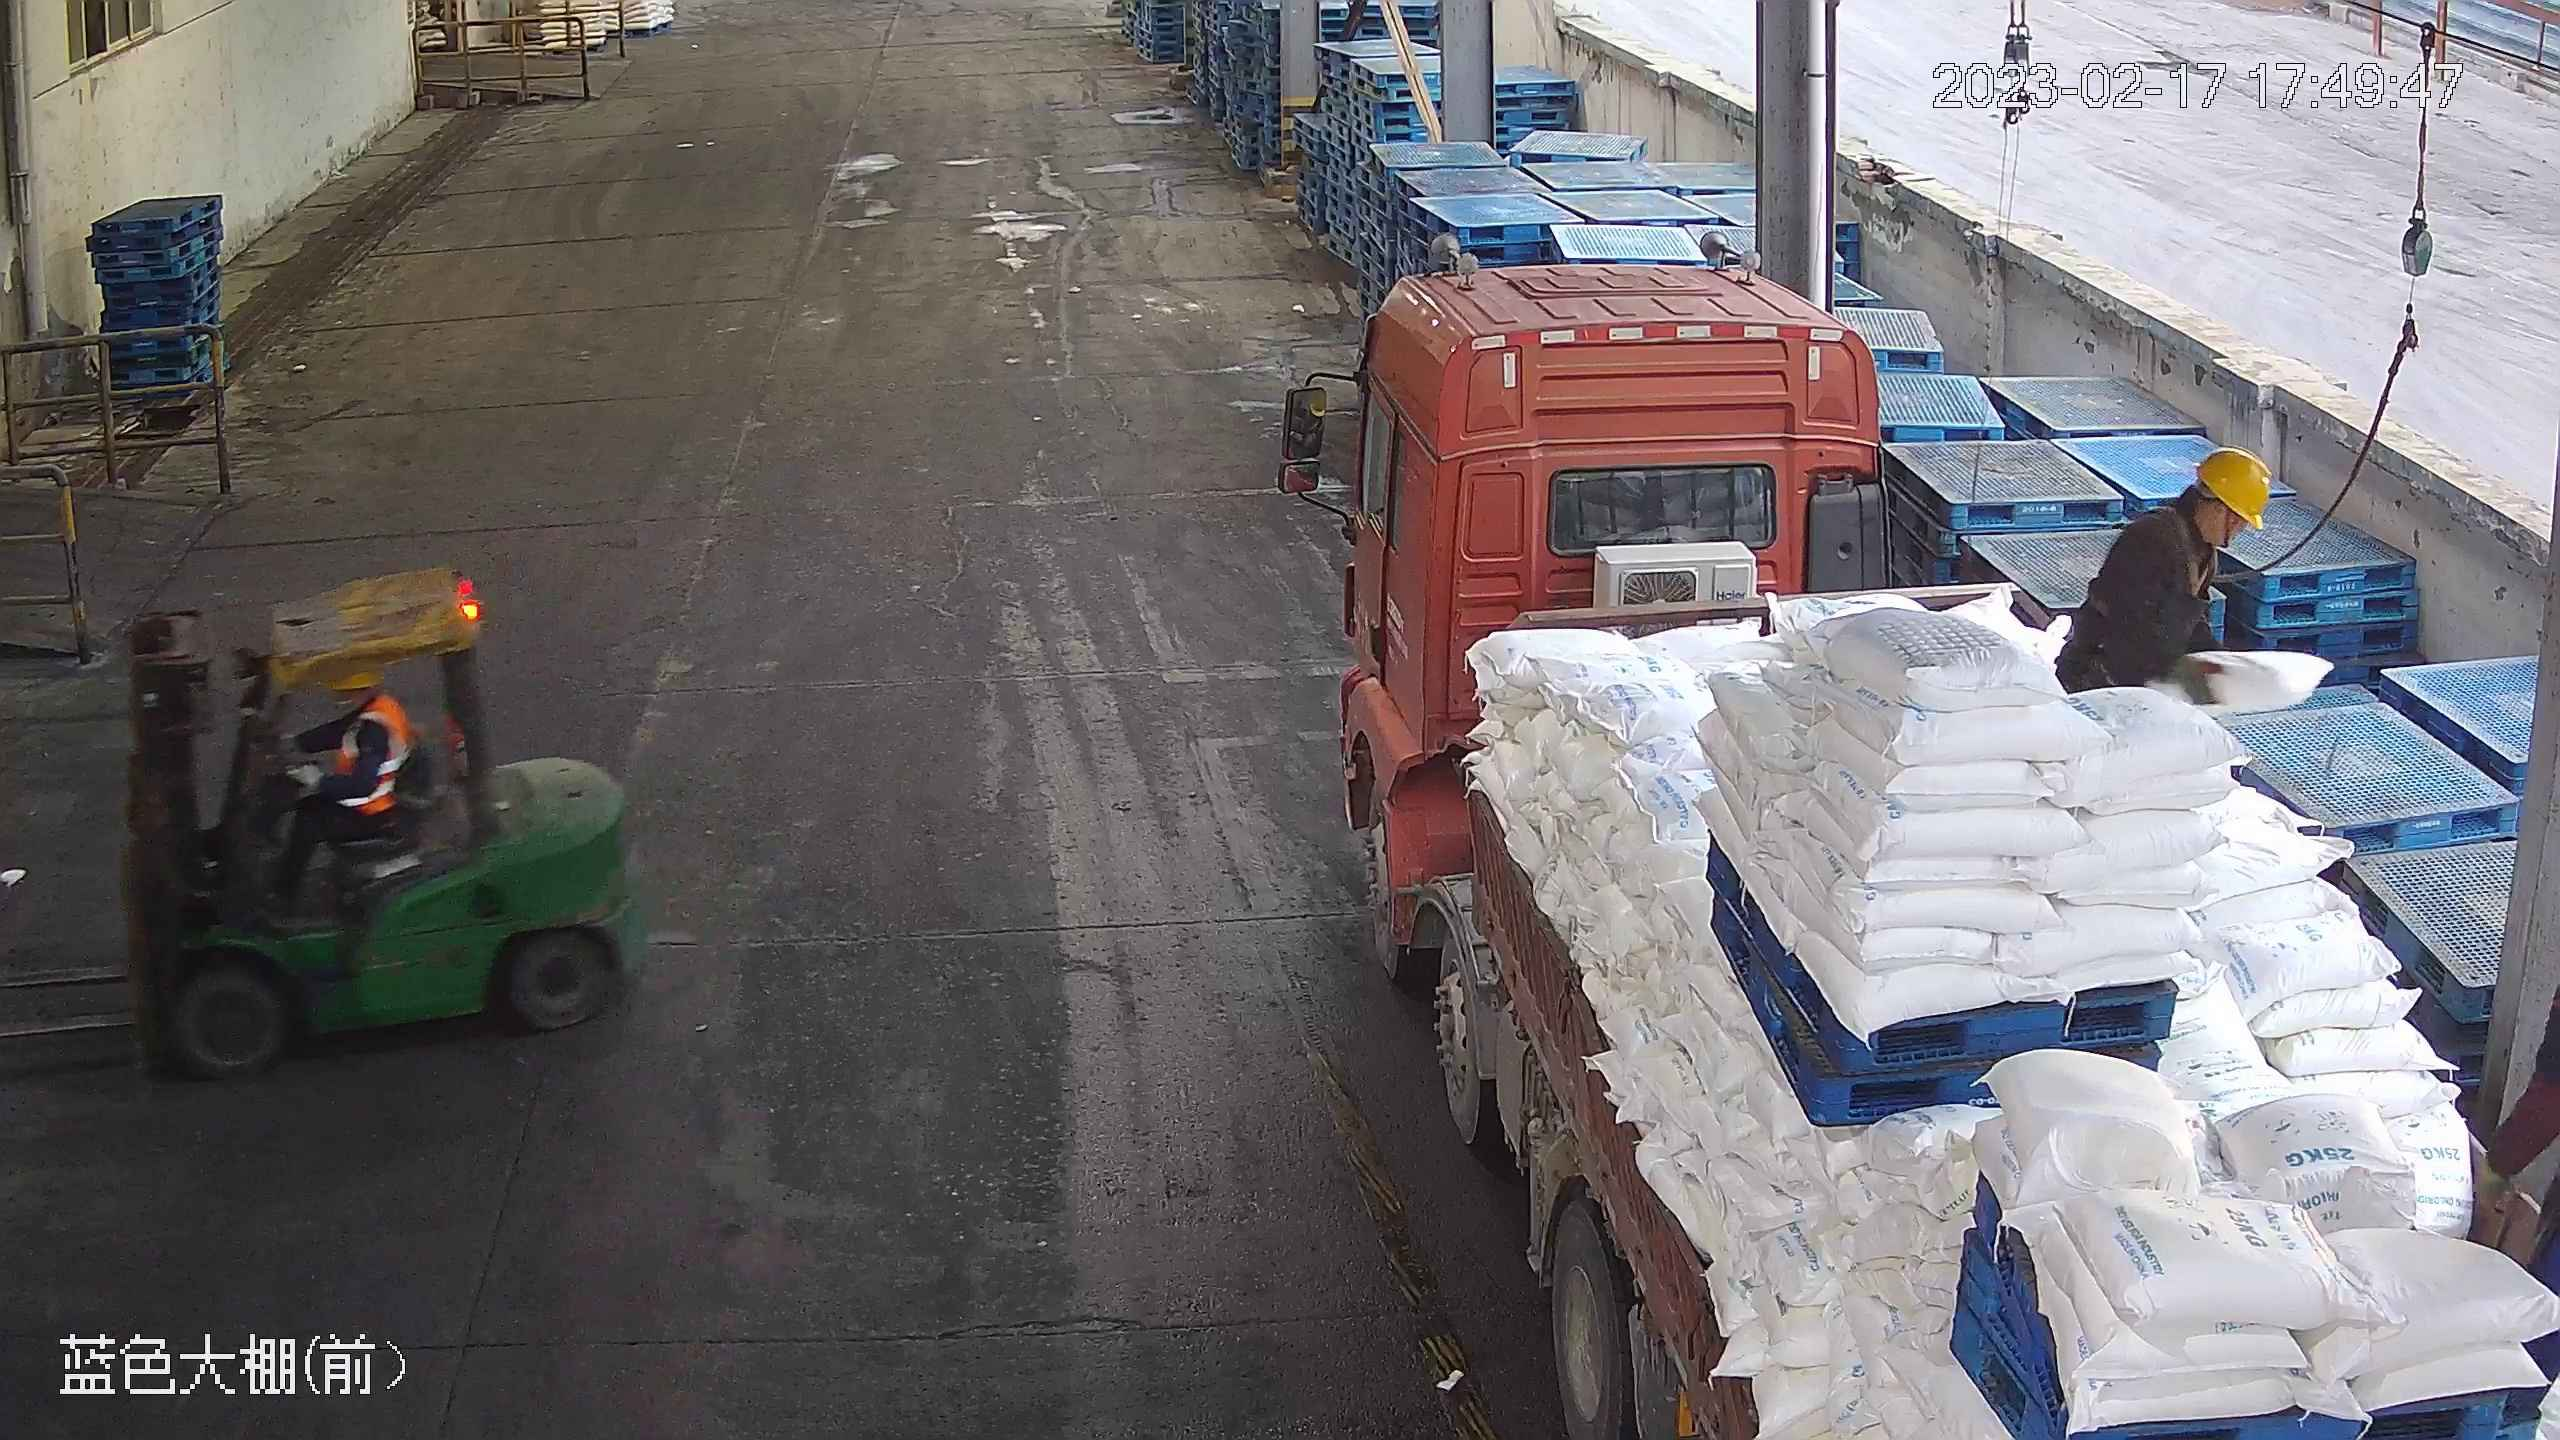belt: (2116, 507, 2219, 616)
head: (2105, 442, 2271, 593), (324, 669, 410, 746)
helmet: (2191, 442, 2270, 531)
people: (250, 667, 419, 900)
truck: (1278, 257, 2557, 1440)
